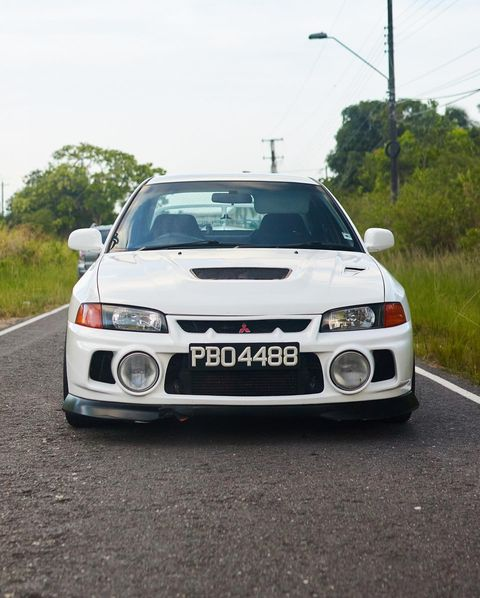License-Plate: (188, 343, 298, 369)
